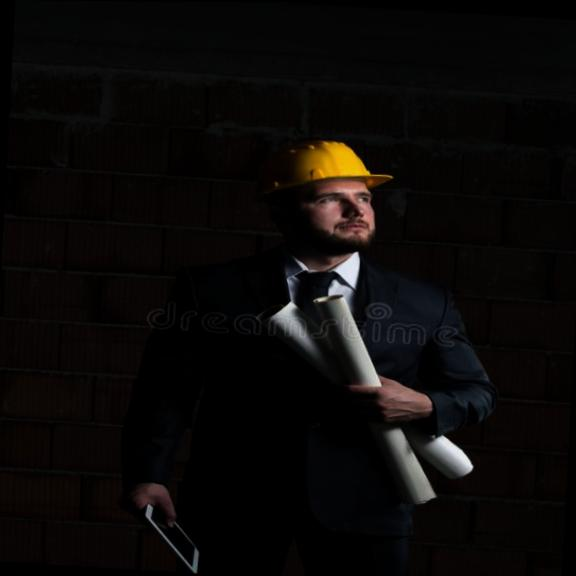no_safety_vest: (179, 257, 470, 526)
